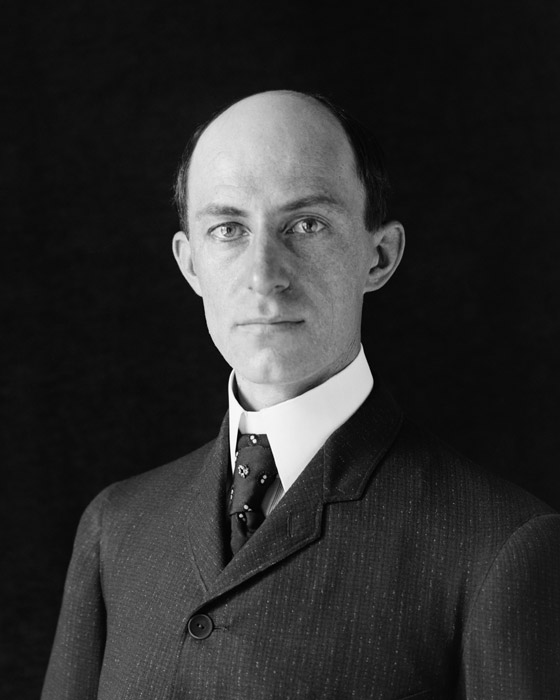male: (36, 75, 560, 700)
